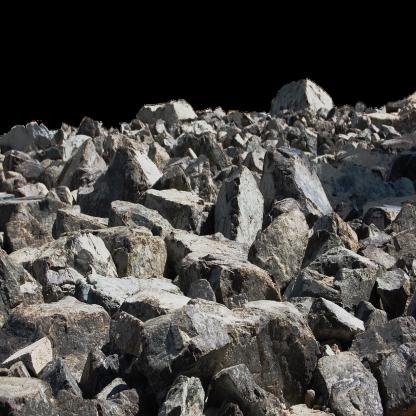Igneous_Granite: (183, 242, 276, 314), (268, 133, 330, 233), (308, 340, 388, 416), (8, 292, 104, 349), (208, 354, 282, 414), (214, 165, 266, 250), (100, 214, 163, 284), (273, 81, 331, 127), (114, 137, 160, 189), (58, 136, 104, 188)
